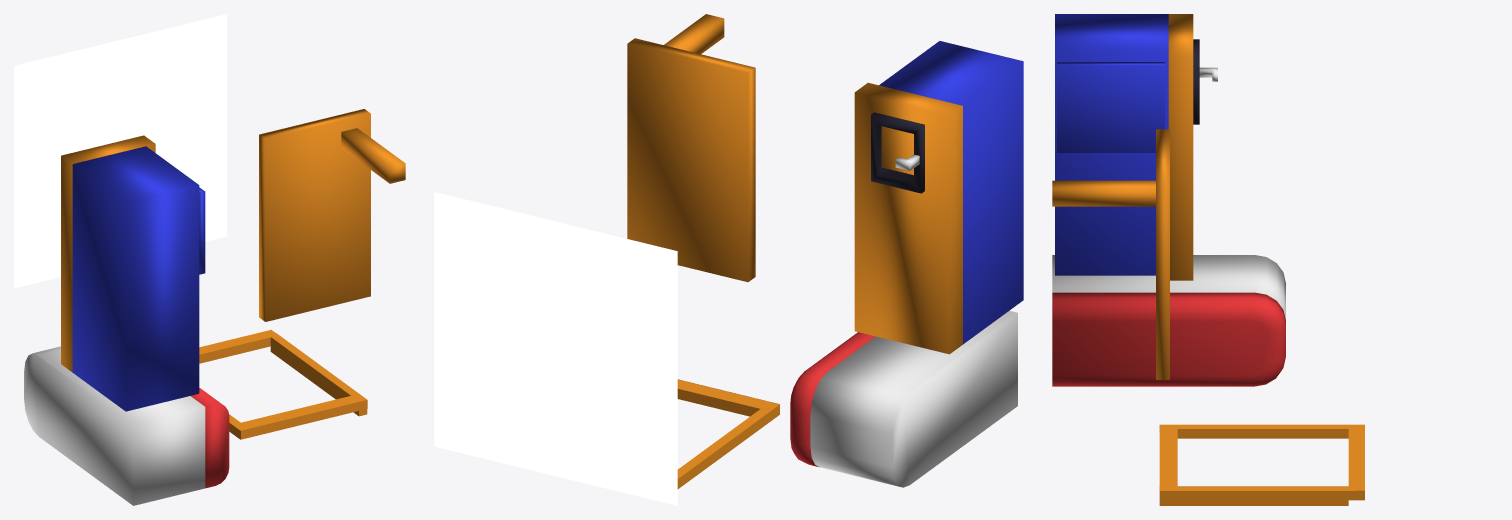
The model's file is kitchen.glb.
3 views of the same model, side by side, from view 1: azimuth 30°, elevation 25°; view 2: azimuth 150°, elevation 25°; view 3: azimuth 270°, elevation 25° (orthographic). The views are drawn at different scales.
Visible parts, largest first — view 1: Plane, Plane.004, Plane.012, Plane.002, Cube.004, Plane.005, Plane.007, Plane.011, Plane.006; view 2: Plane, Plane.012, Plane.005, Plane.002, Plane.004, Cube.004, Plane.007, Cube, Plane.011; view 3: Plane.007, Plane.004, Plane.006, Cube.004, Plane.005, Plane.002, Plane.012, Plane.011, Cube.
Boxes of the visible parts, box(x1,y1,x2,y2) form: Plane: box(14, 14, 226, 288); Plane.004: box(72, 146, 199, 411); Plane.012: box(259, 109, 370, 321); Plane.002: box(24, 346, 205, 505); Cube.004: box(199, 329, 367, 439); Plane.005: box(61, 135, 155, 372); Plane.007: box(191, 388, 229, 488); Plane.011: box(341, 128, 405, 183); Plane.006: box(199, 187, 205, 274); Plane: box(434, 192, 677, 505); Plane.012: box(627, 38, 755, 282); Plane.005: box(854, 82, 962, 354); Plane.002: box(810, 310, 1017, 487); Plane.004: box(879, 41, 1023, 344); Cube.004: box(677, 379, 779, 488); Plane.007: box(790, 332, 875, 467); Cube: box(871, 112, 924, 193); Plane.011: box(664, 14, 724, 54); Plane.007: box(1052, 292, 1285, 386); Plane.004: box(1055, 14, 1168, 275); Plane.006: box(1057, 62, 1164, 152); Cube.004: box(1159, 424, 1364, 505); Plane.005: box(1168, 14, 1193, 280); Plane.002: box(1052, 255, 1285, 319); Plane.012: box(1156, 129, 1169, 379); Plane.011: box(1052, 180, 1155, 206); Cube: box(1193, 39, 1199, 124).
Size of the model in its own units: 7.91 by 7.81 by 9.26.
